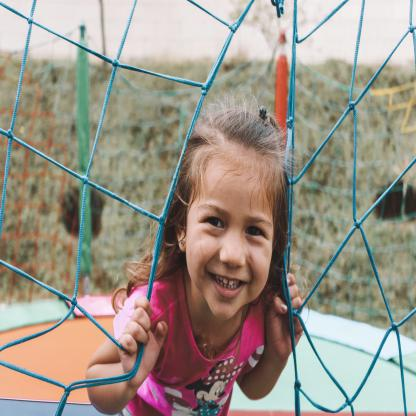Eye: (200, 209, 226, 235), (244, 219, 270, 244)
Mouth: (208, 271, 248, 299)
Nose: (221, 233, 247, 270)
